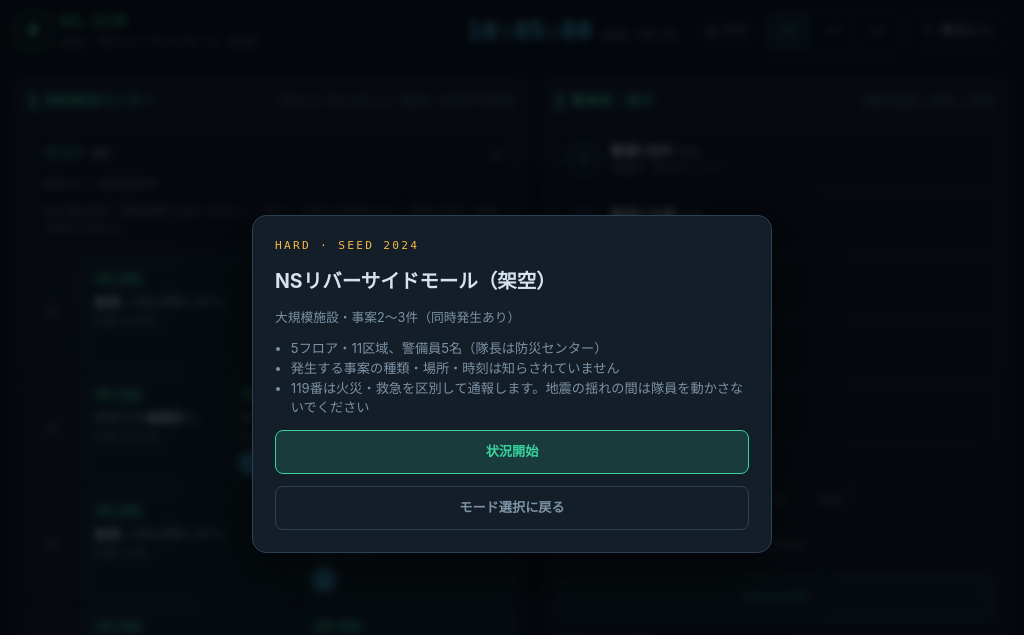
Scenario: v0.4 タスクボード・簡易通知 › プレイヤーが優先度を変更すると並び順が変わる
Click the button "状況開始": [512, 452] box [275, 430, 749, 474]
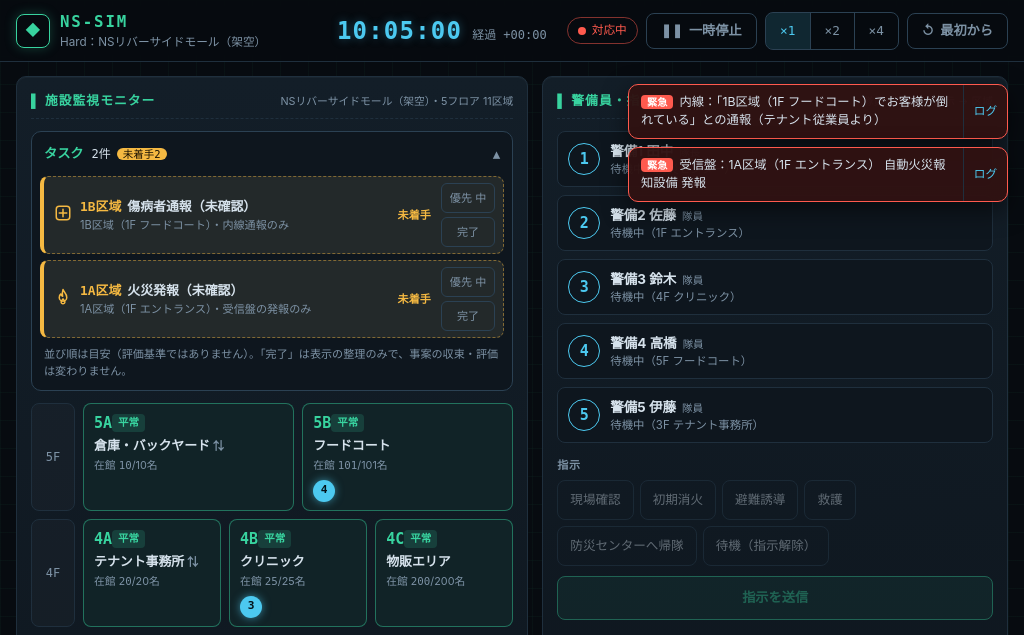
Click the button "❚❚ 一時停止": [701, 31] box [646, 13, 757, 49]
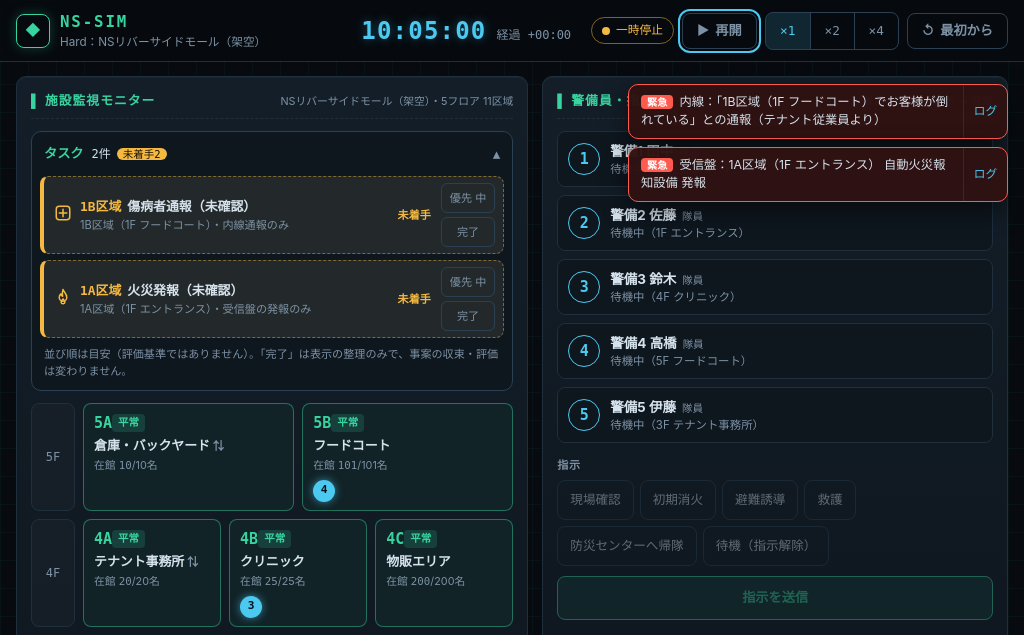
Click the button with aria-label "優先度：中": [468, 282] box [441, 267, 495, 297]
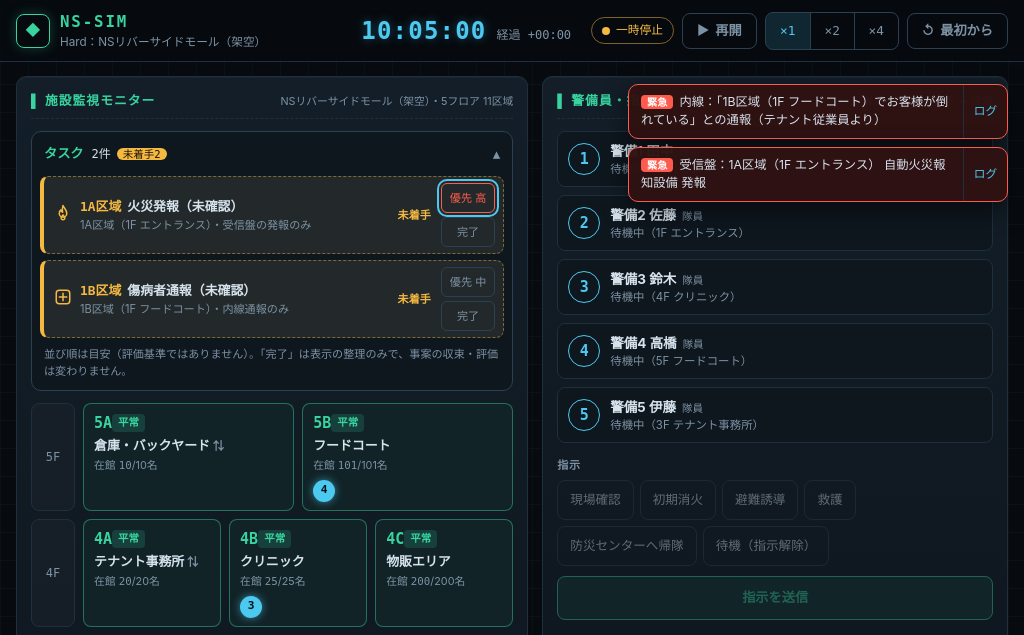
Expected: the list item with aria-label "火災" shows "火災発報", [44, 177, 441, 253]
Expected: the button with aria-label "優先度：高" is shown, [441, 183, 495, 213]
